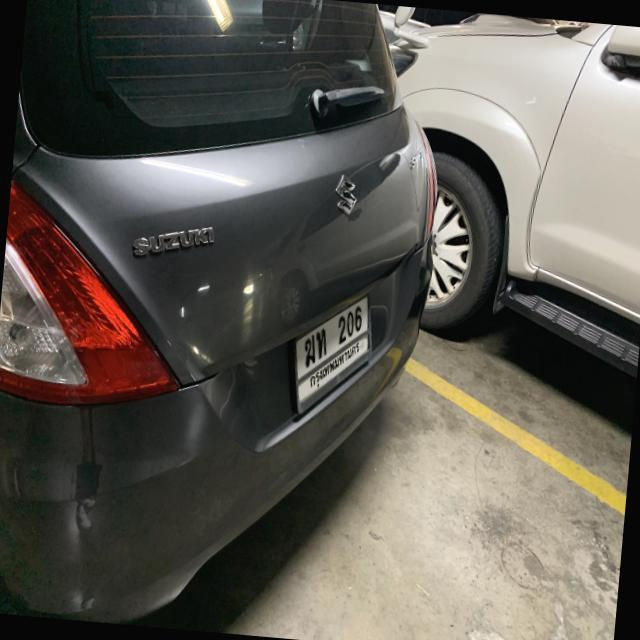license_plate: (280, 283, 380, 428)
